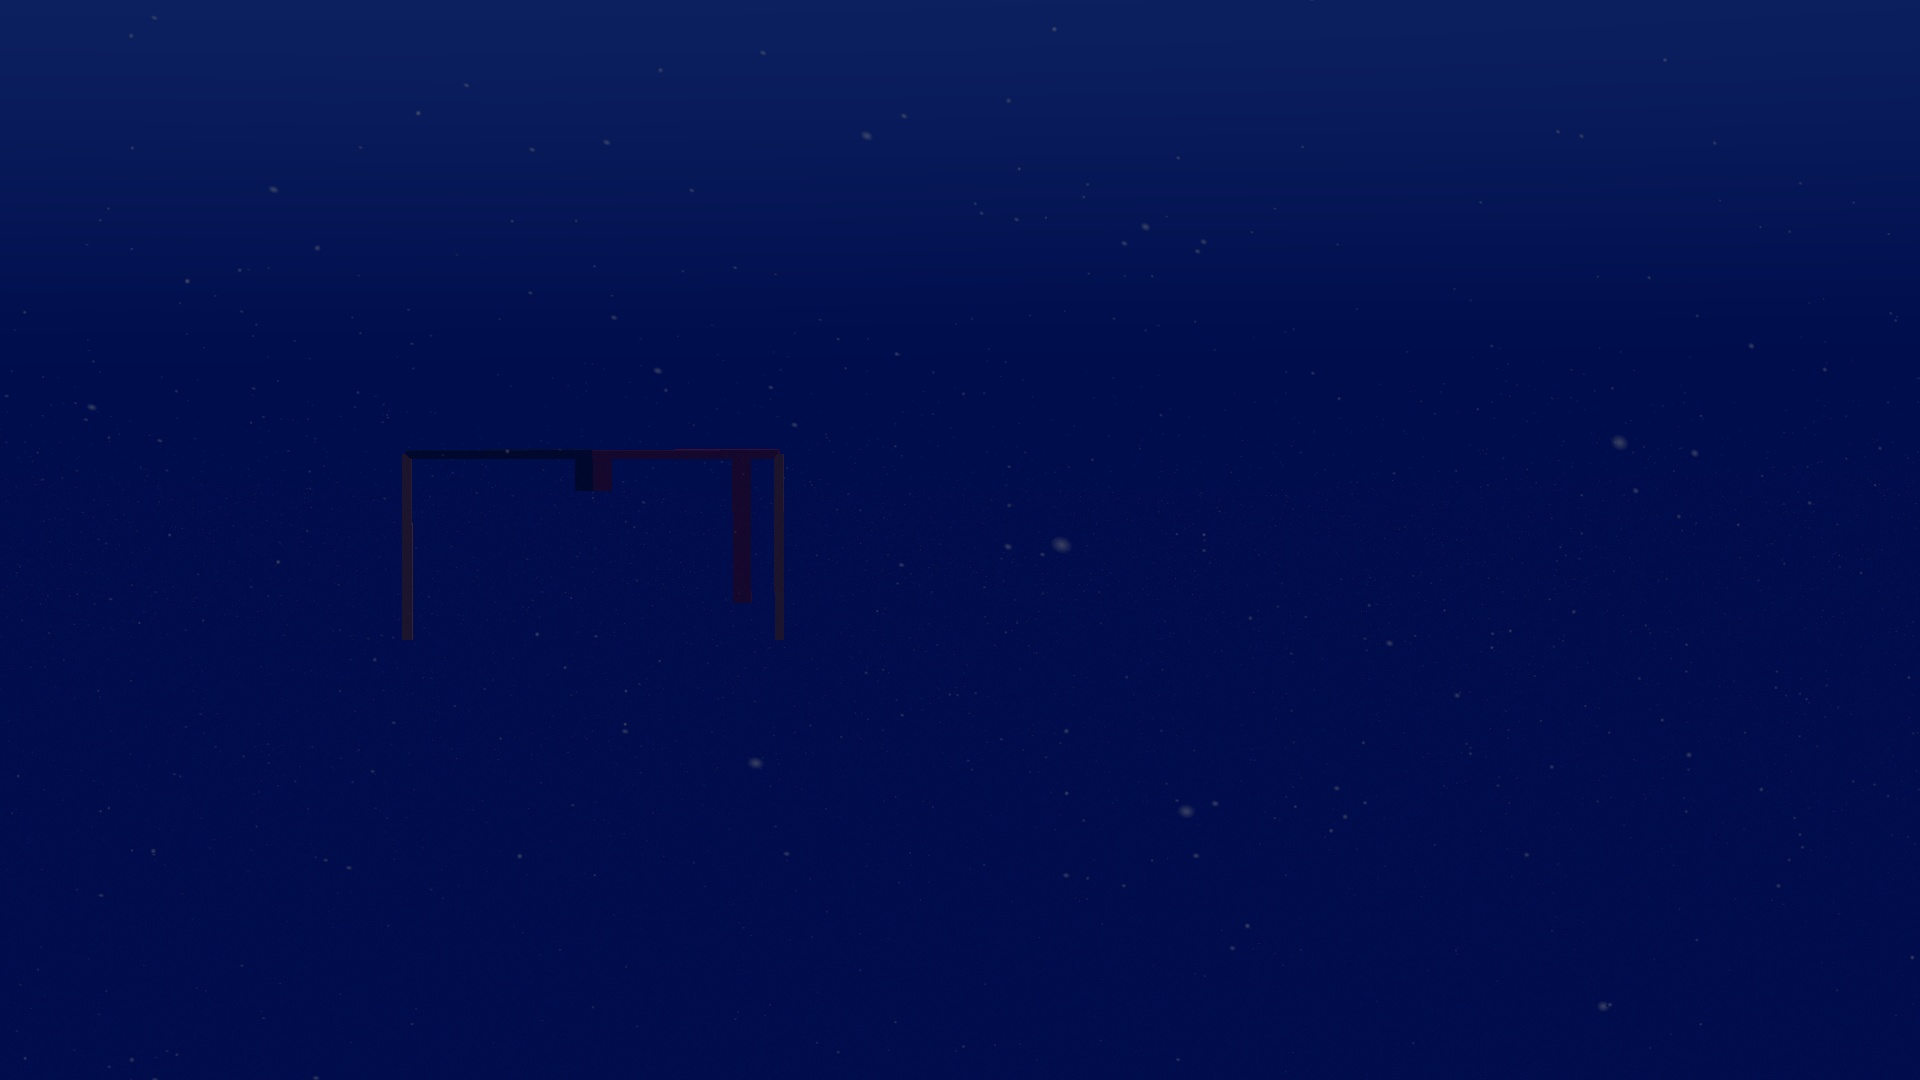Gate: (393, 439, 793, 657)
